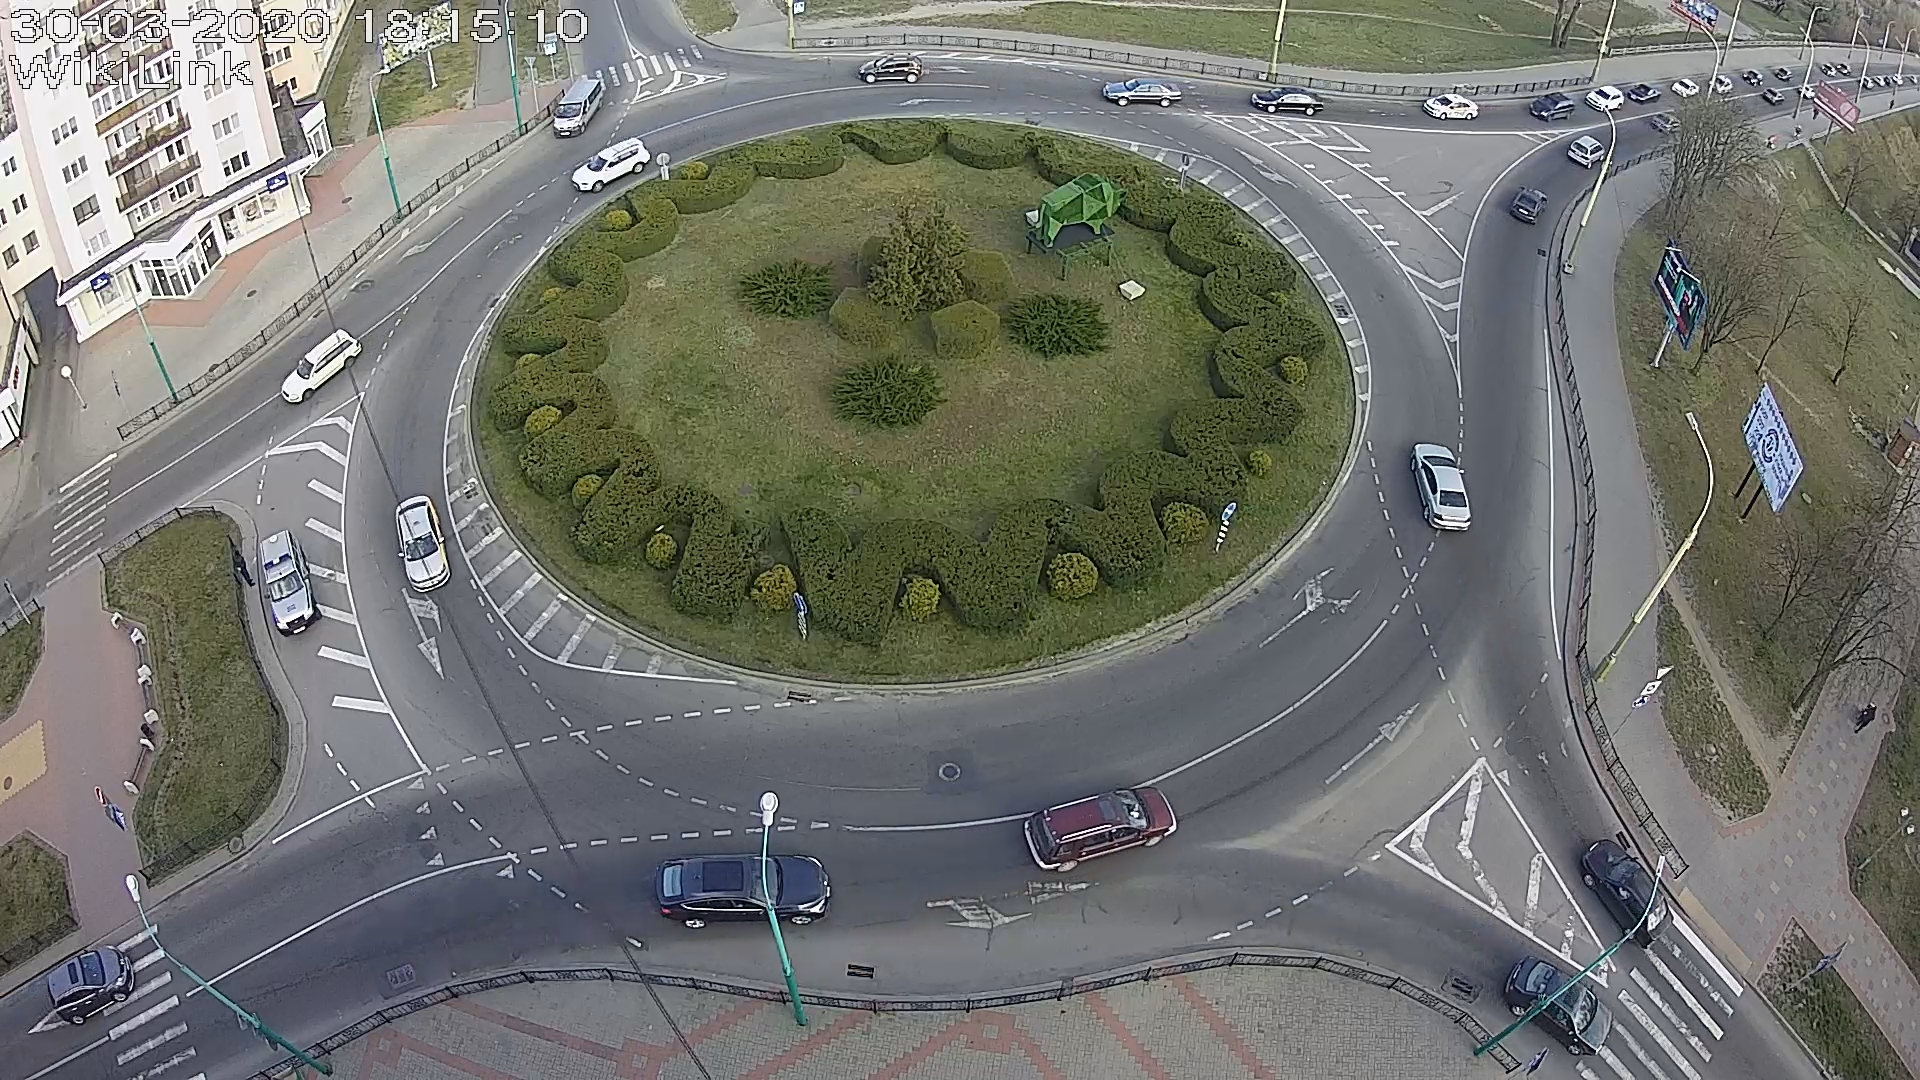car: (654, 853, 831, 928), (1023, 787, 1178, 873), (1505, 956, 1613, 1058), (1578, 839, 1673, 948), (45, 944, 135, 1027), (258, 529, 323, 638), (281, 328, 363, 404), (1410, 442, 1472, 531), (396, 495, 451, 593), (571, 137, 651, 193), (553, 76, 603, 138), (1102, 76, 1182, 108), (858, 53, 924, 84), (1251, 88, 1325, 116), (1510, 186, 1549, 225), (1422, 94, 1480, 120), (1528, 92, 1576, 123), (1567, 135, 1606, 169), (1585, 86, 1625, 113), (1629, 83, 1662, 105)
